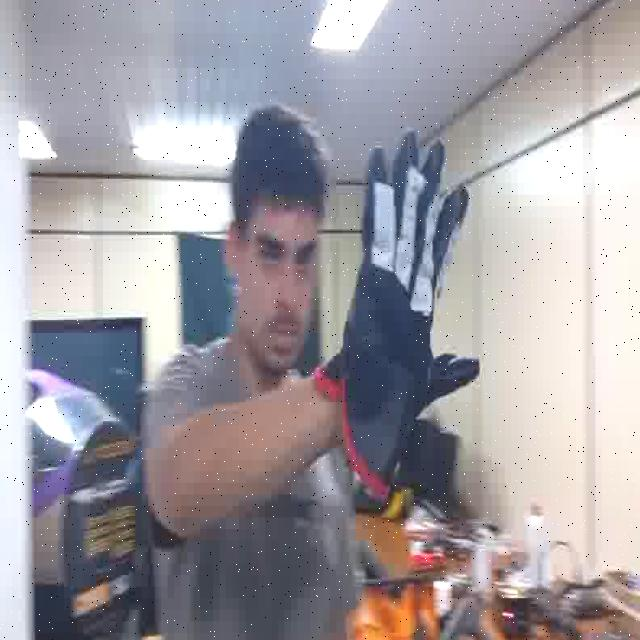Gloves: (337, 122, 482, 472)
